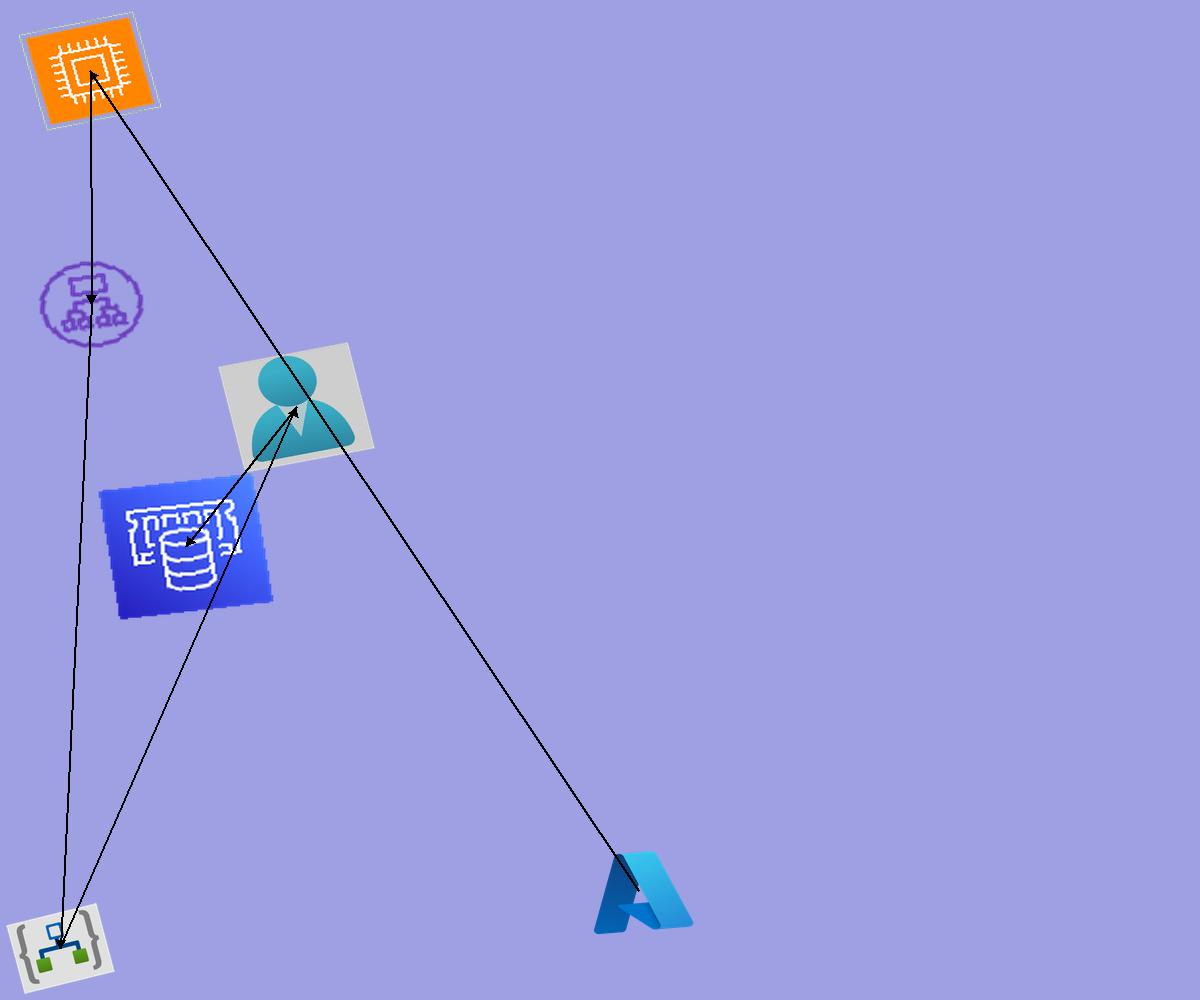AWS-Category_Compute: (17, 10, 163, 132)
AWS-ElastiCache: (97, 472, 275, 621)
AWS-Res_Elastic-Load-Balancing_Application-Load-Balancer: (26, 250, 157, 359)
Azure_integration-204-Logic-Apps: (6, 903, 115, 994)
Azure_services: (580, 842, 699, 941)
Azure_users: (218, 342, 375, 473)
